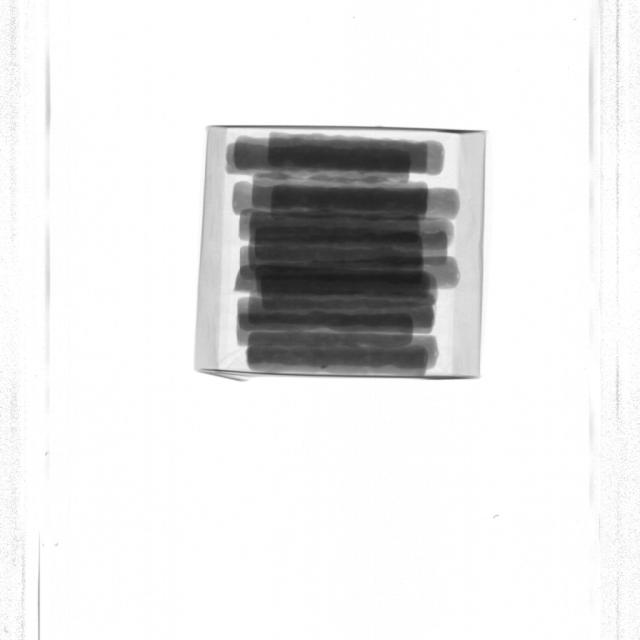ym: (321, 364, 329, 370)
